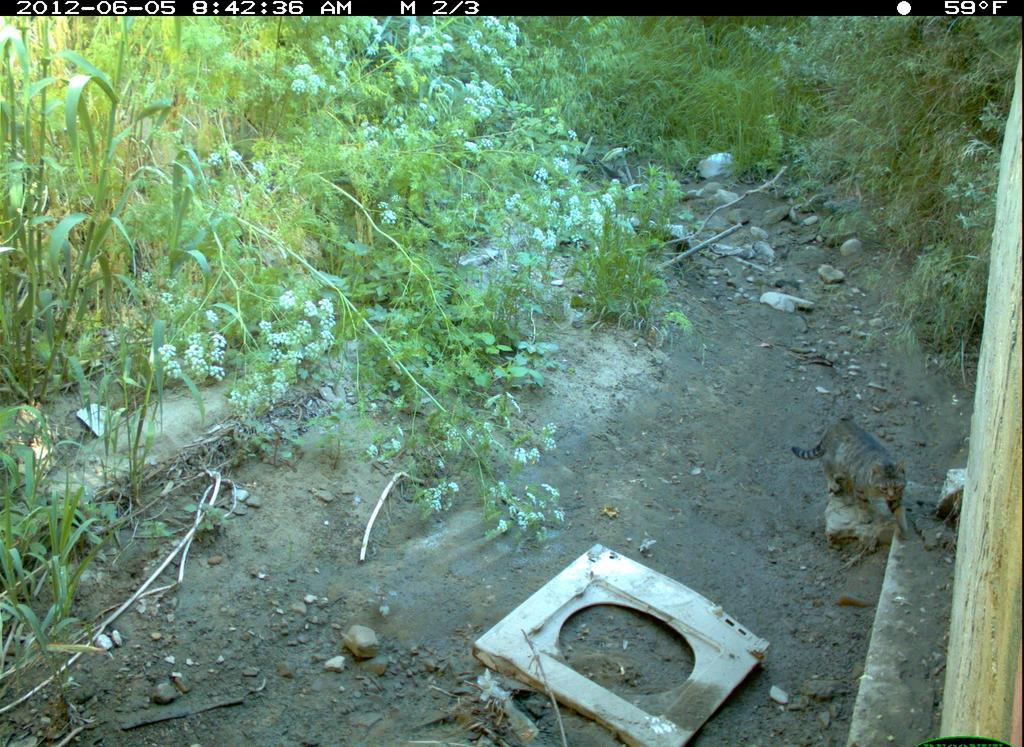cat: (784, 406, 929, 546)
